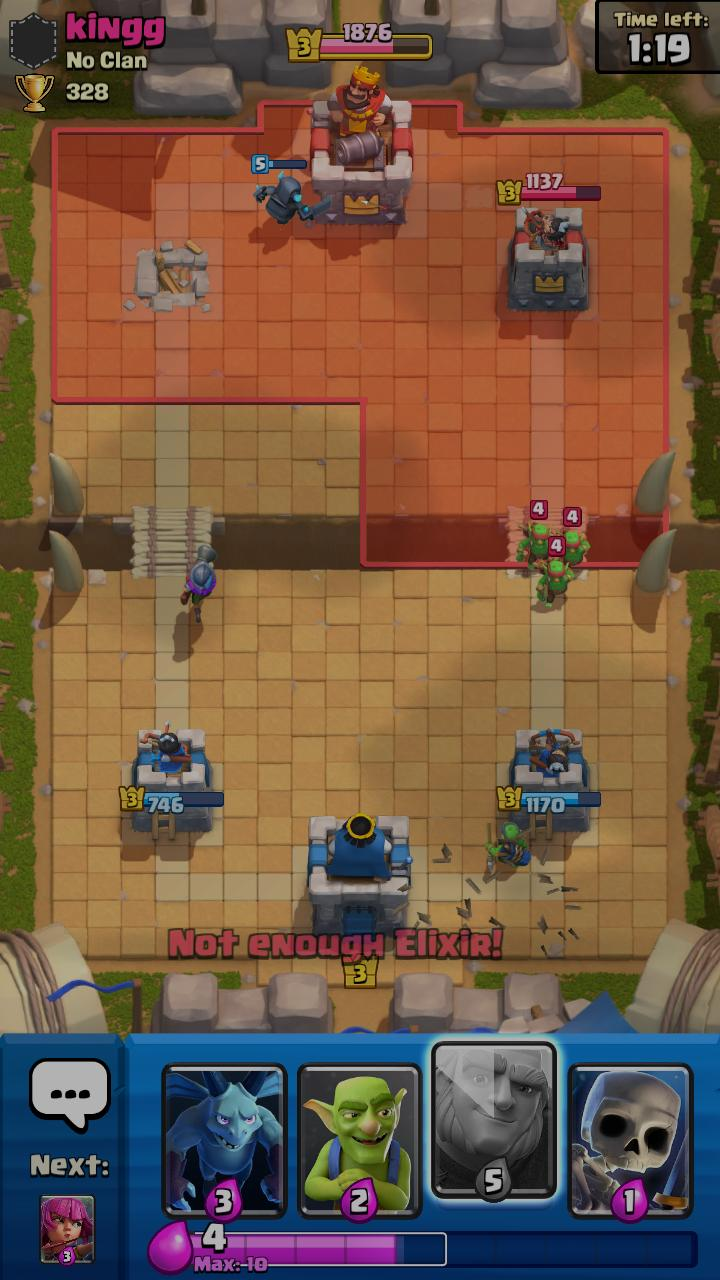ally: (251, 154, 332, 225), (181, 545, 218, 623), (485, 822, 531, 873)
enemy: (536, 536, 575, 608), (516, 500, 554, 570), (549, 506, 591, 569)
